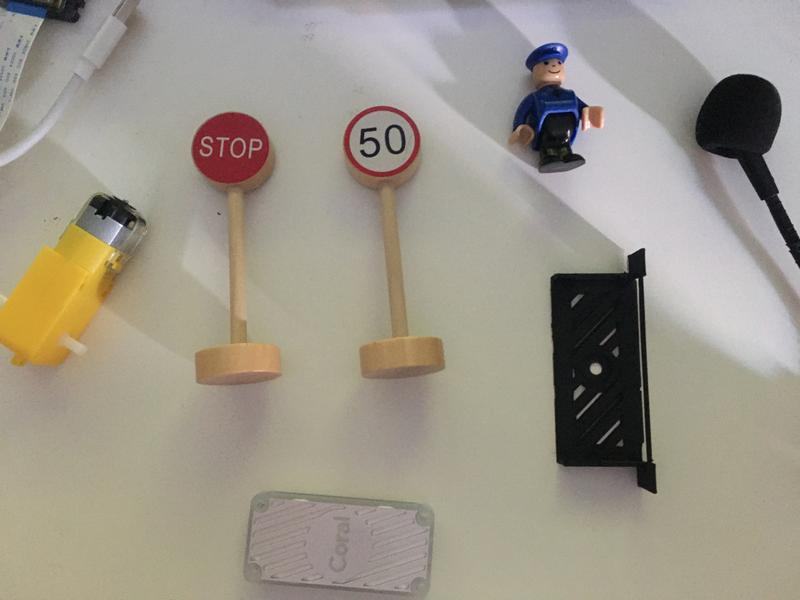Traffic_Sign_50: (344, 107, 420, 175)
Traffic_Sign_Stop: (191, 112, 267, 185)
person: (507, 43, 607, 174)
